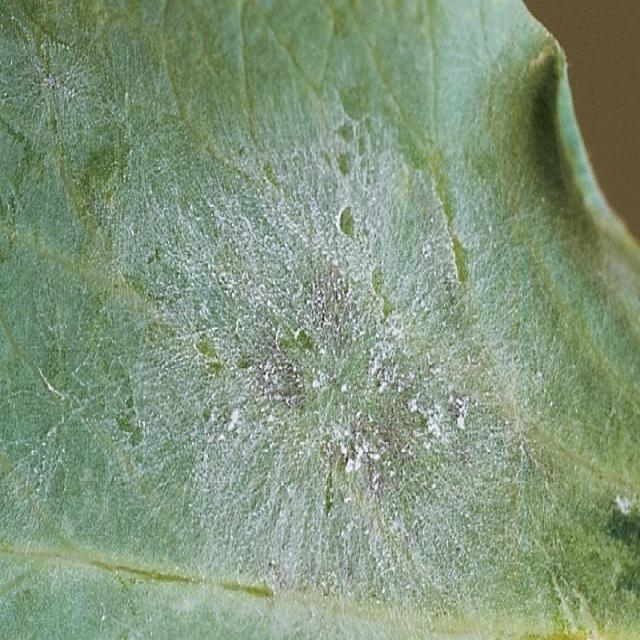Powdery Mildew: (1, 1, 636, 637)
